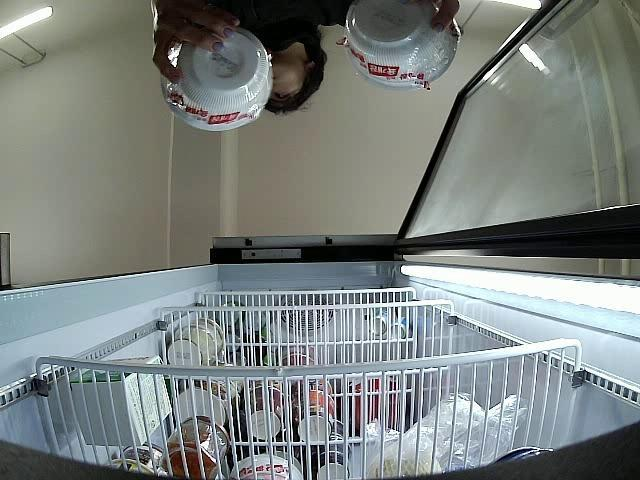09_yukGaeJang: (158, 25, 272, 133), (344, 0, 460, 92)
